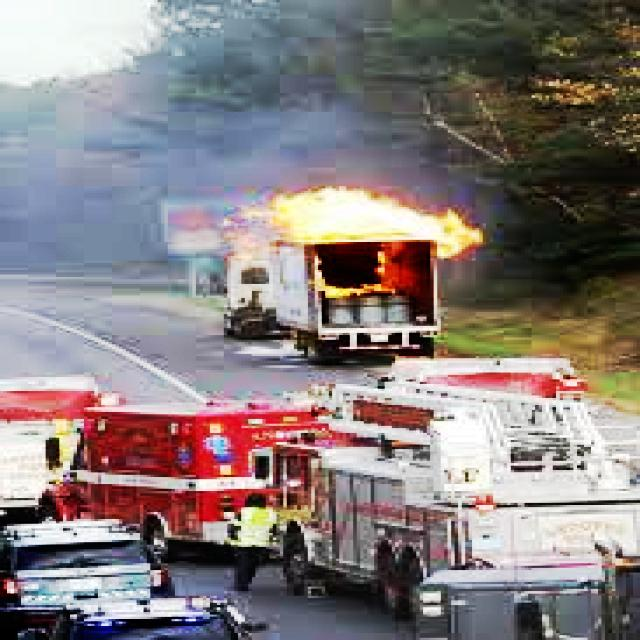api: (228, 180, 491, 276)
